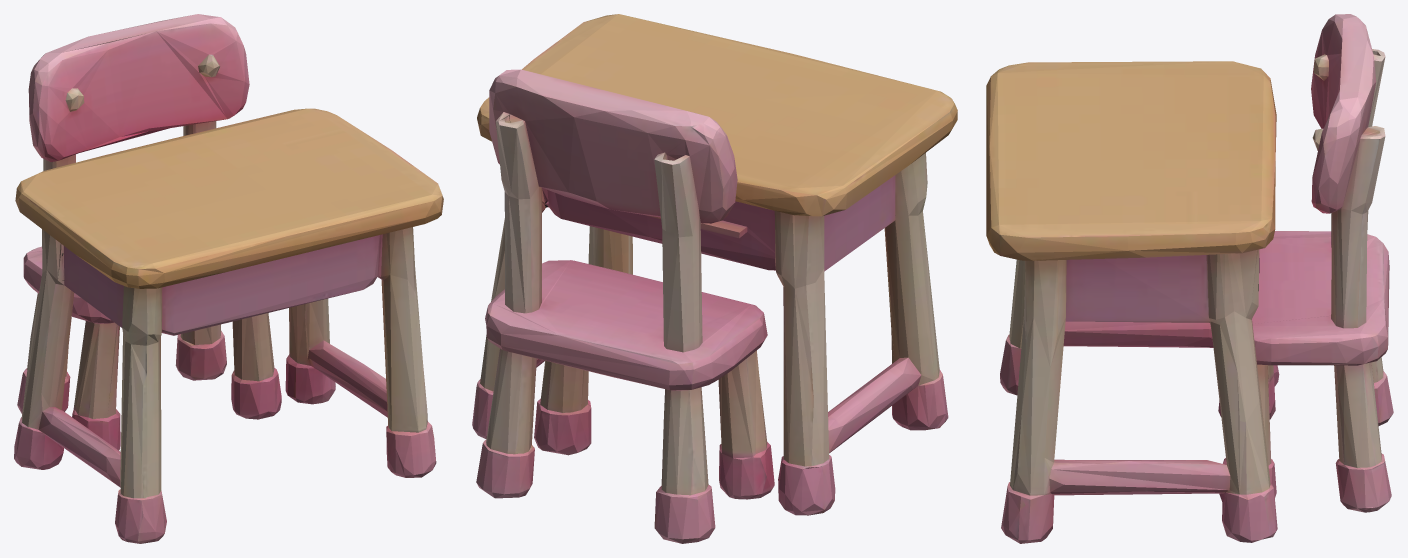
Rendered from desk_set.glb.
3 views of the same model, side by side, from view 1: azimuth 30°, elevation 25°; view 2: azimuth 150°, elevation 25°; view 3: azimuth 270°, elevation 25° (orthographic). The views are drawn at different scales.
Parts seen in each view (by area): view 1: geometry_0; view 2: geometry_0; view 3: geometry_0.
Part boxes in pixels (x1,y1,x2,y2): geometry_0: (14,14,443,543); geometry_0: (472,14,957,543); geometry_0: (986,14,1393,543).
Bounding box in the file's own units: 0.9409 × 0.9972 × 0.9129.
1 material, 1 textured.
